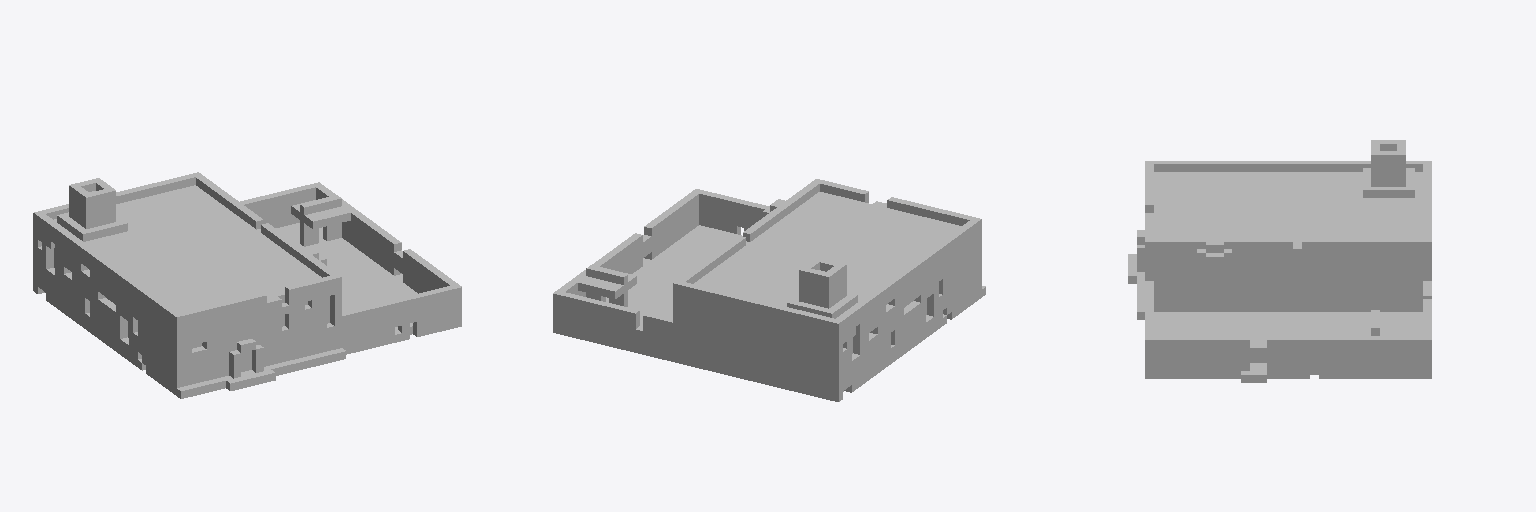
Rendered from house t1.obj.
3 views of the same model, side by side, from view 1: azimuth 30°, elevation 25°; view 2: azimuth 150°, elevation 25°; view 3: azimuth 270°, elevation 25° (orthographic).
Visible parts, largest first — view 1: object 1; view 2: object 1; view 3: object 1.
Boxes of the visible parts, <box> form: object 1: <box>33,172,461,398</box>; object 1: <box>553,179,985,401</box>; object 1: <box>1128,140,1431,382</box>.
Size of the model in its own units: 3.9 by 1.4 by 3.5.